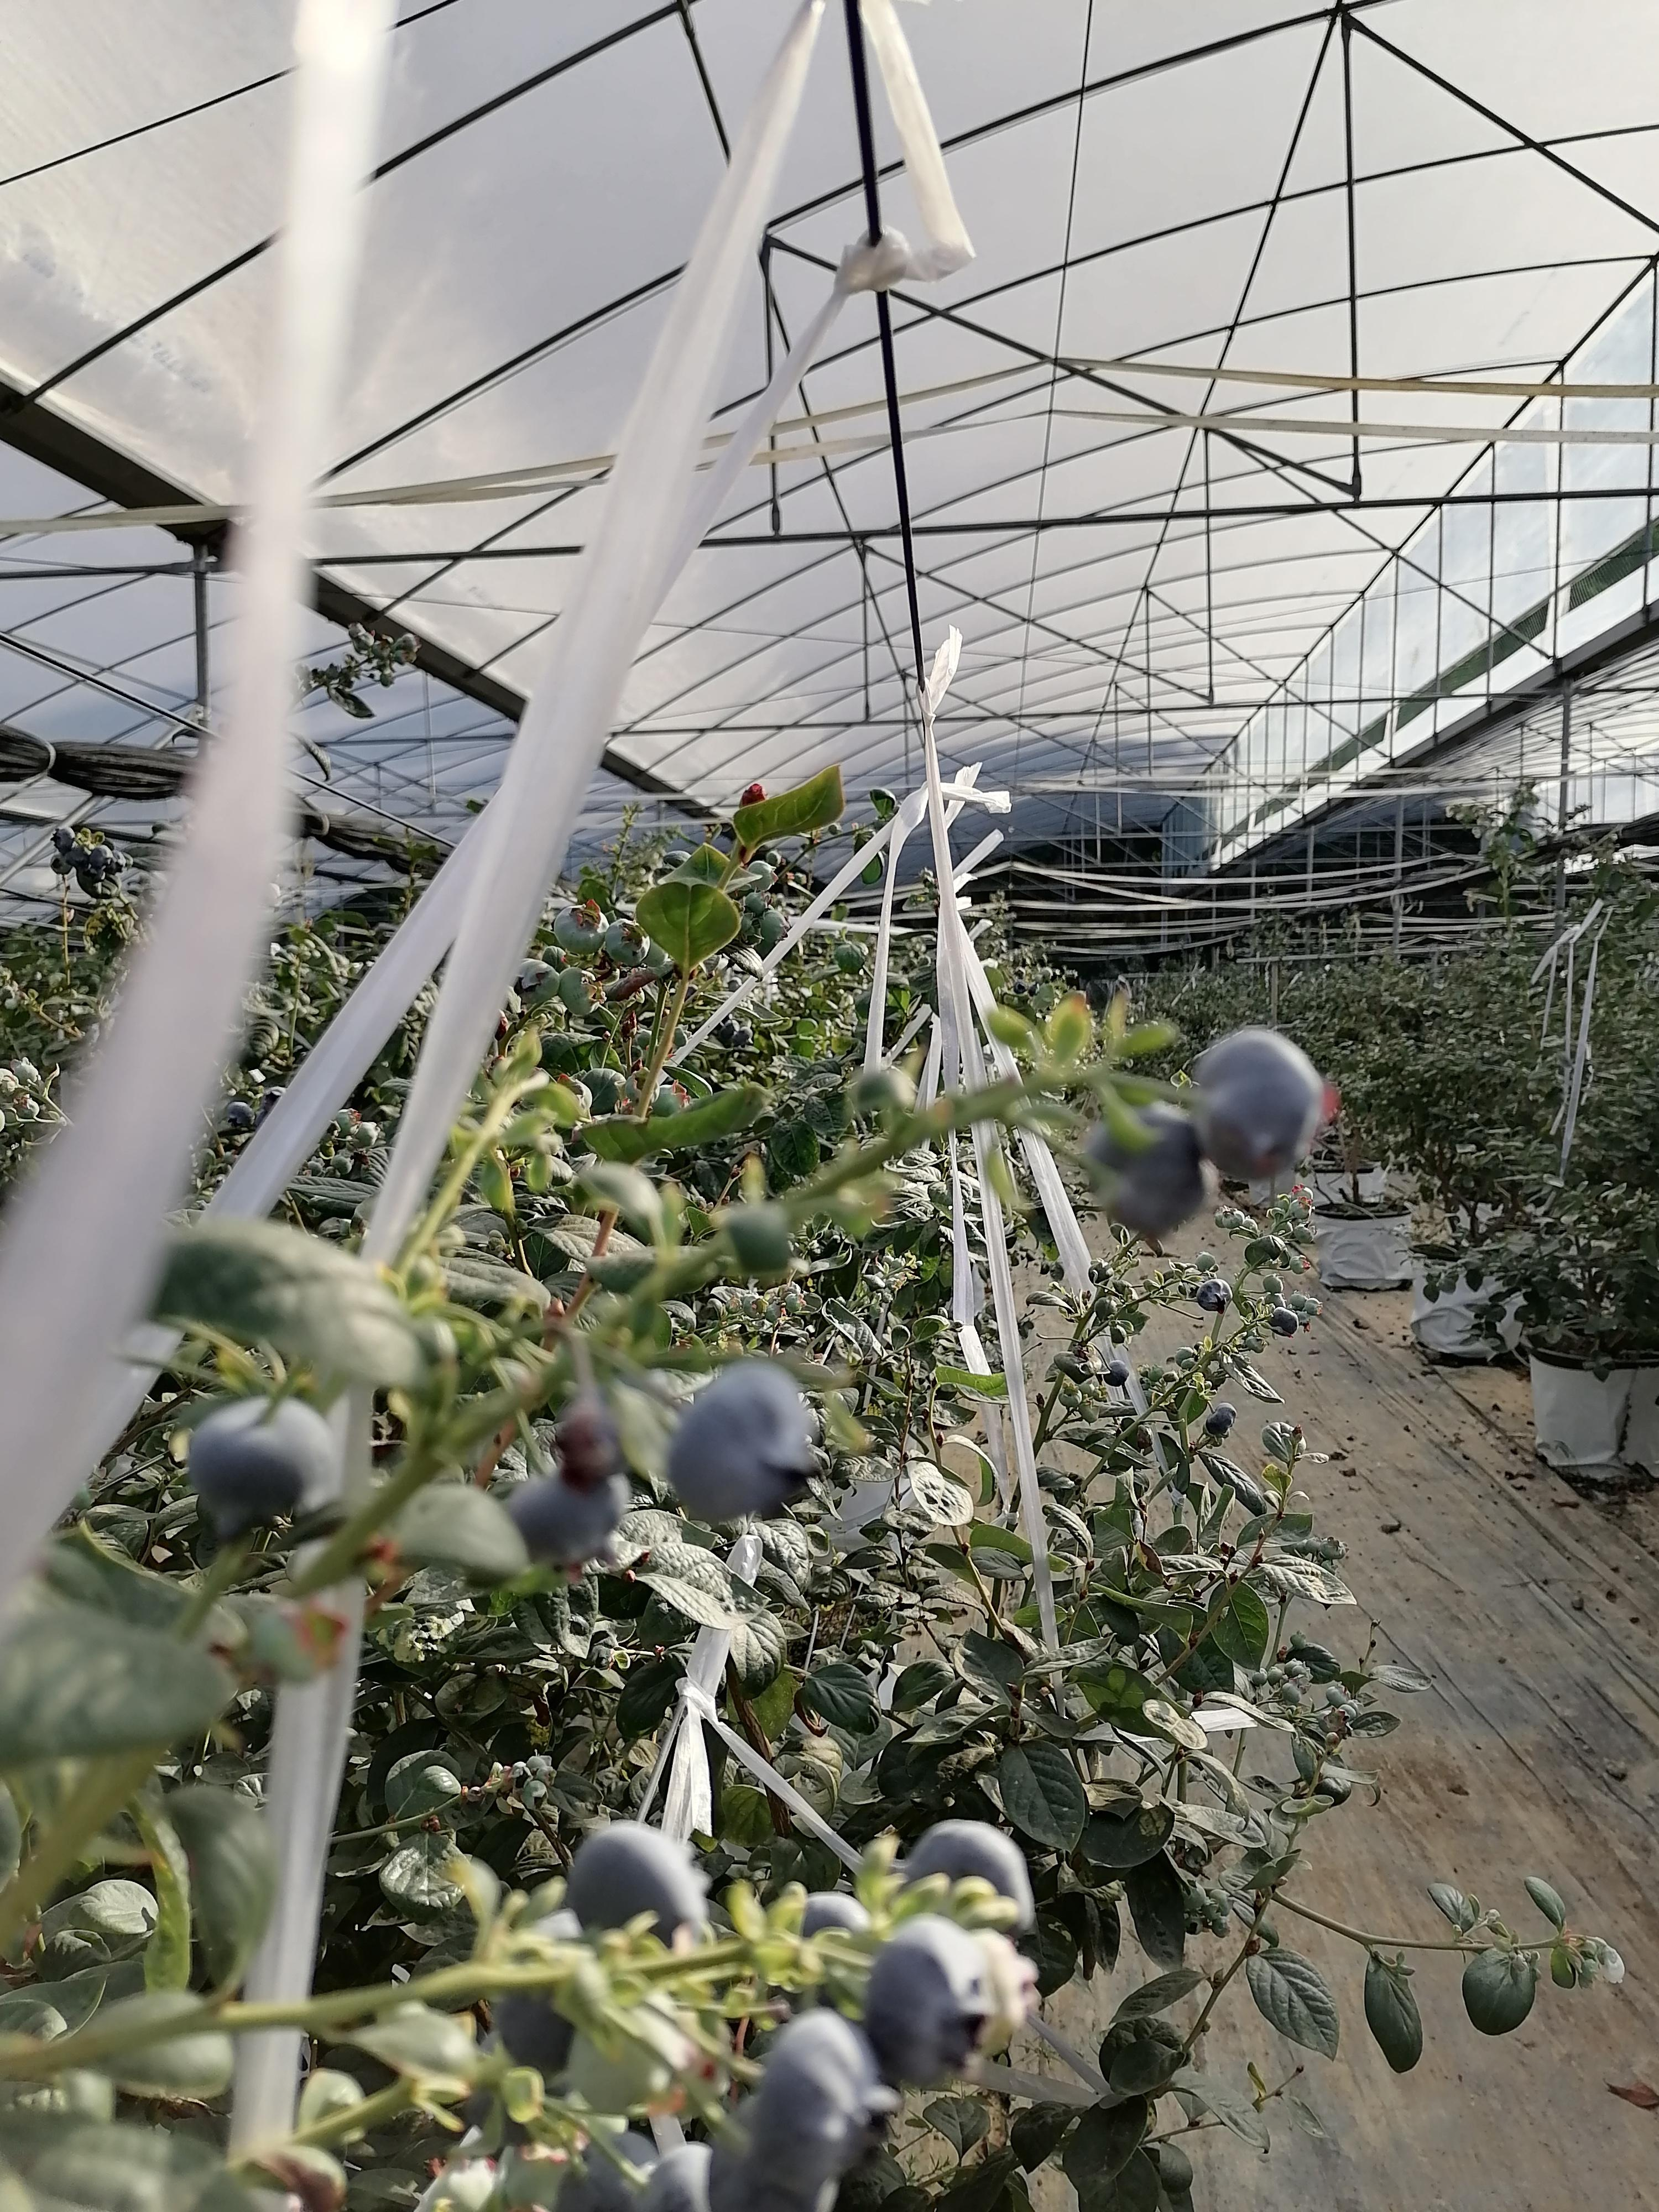ripe-blueberries: (751, 2005, 903, 2196), (666, 1357, 823, 1524), (1192, 1022, 1338, 1183), (864, 1911, 995, 2088), (186, 1397, 338, 1545), (561, 1817, 711, 1952), (1086, 1101, 1213, 1240), (904, 1815, 1039, 1937), (504, 1470, 638, 1583), (706, 2101, 836, 2212), (559, 2134, 659, 2212), (495, 2001, 573, 2076), (634, 2142, 713, 2212), (796, 1888, 871, 1939), (1195, 1277, 1234, 1315), (1204, 1402, 1237, 1437), (1269, 1305, 1300, 1338), (1103, 1360, 1129, 1388), (732, 1026, 753, 1047)
